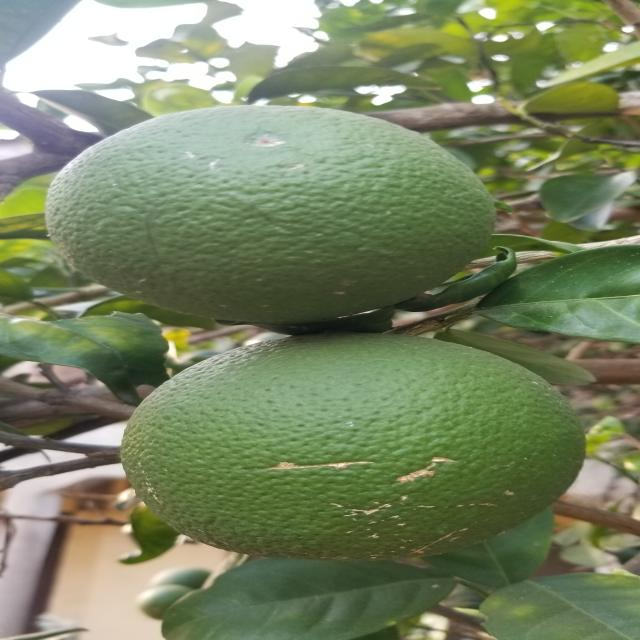Unripe: (49, 99, 513, 330), (127, 334, 591, 560)
